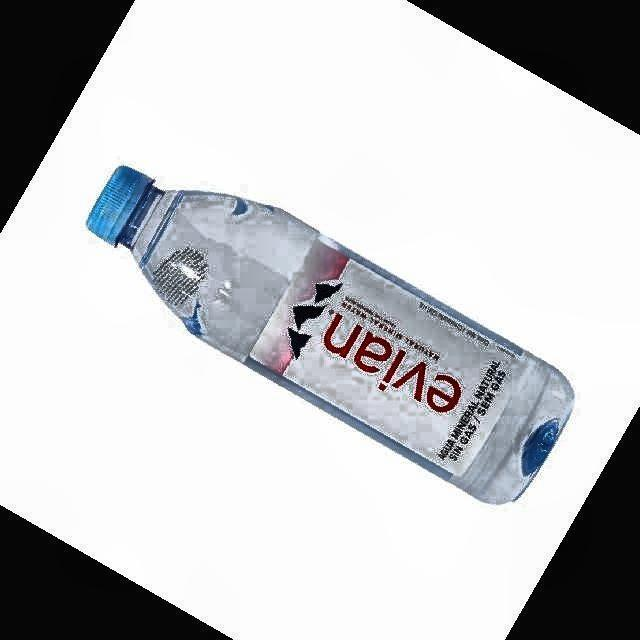plastic: (88, 166, 572, 503)
